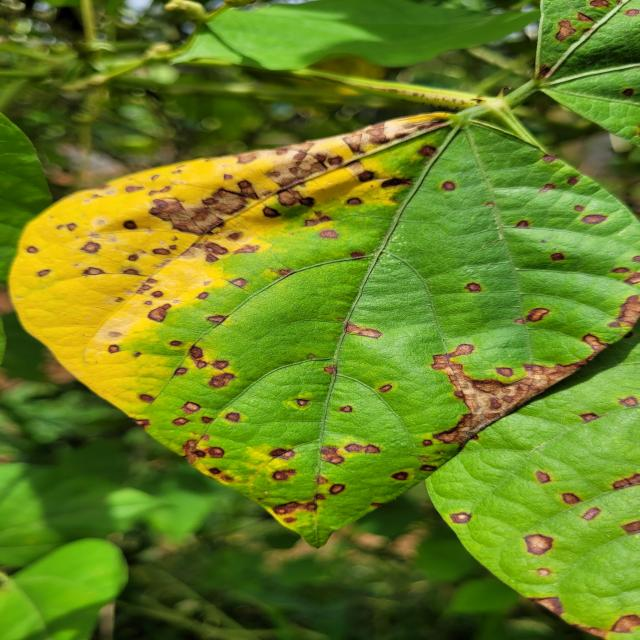Dolicos bean_cercospora leaf spot: (9, 100, 640, 540), (426, 360, 640, 640)
